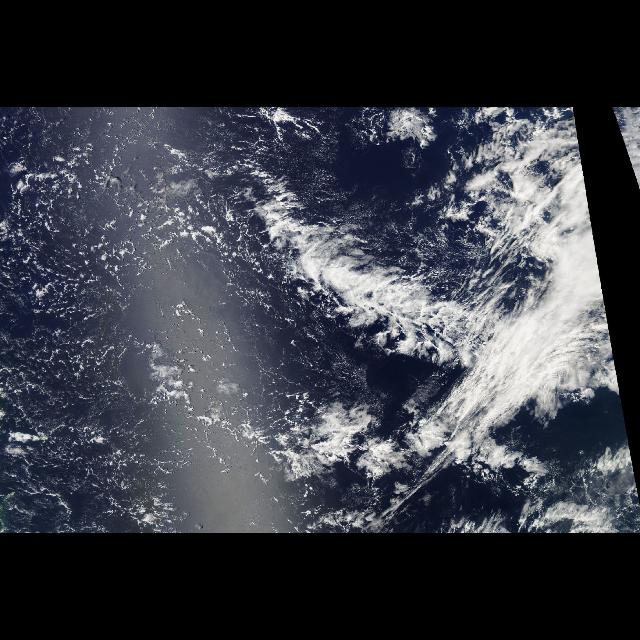Fish: (255, 164, 471, 366)
Sugar: (1, 158, 266, 468)
